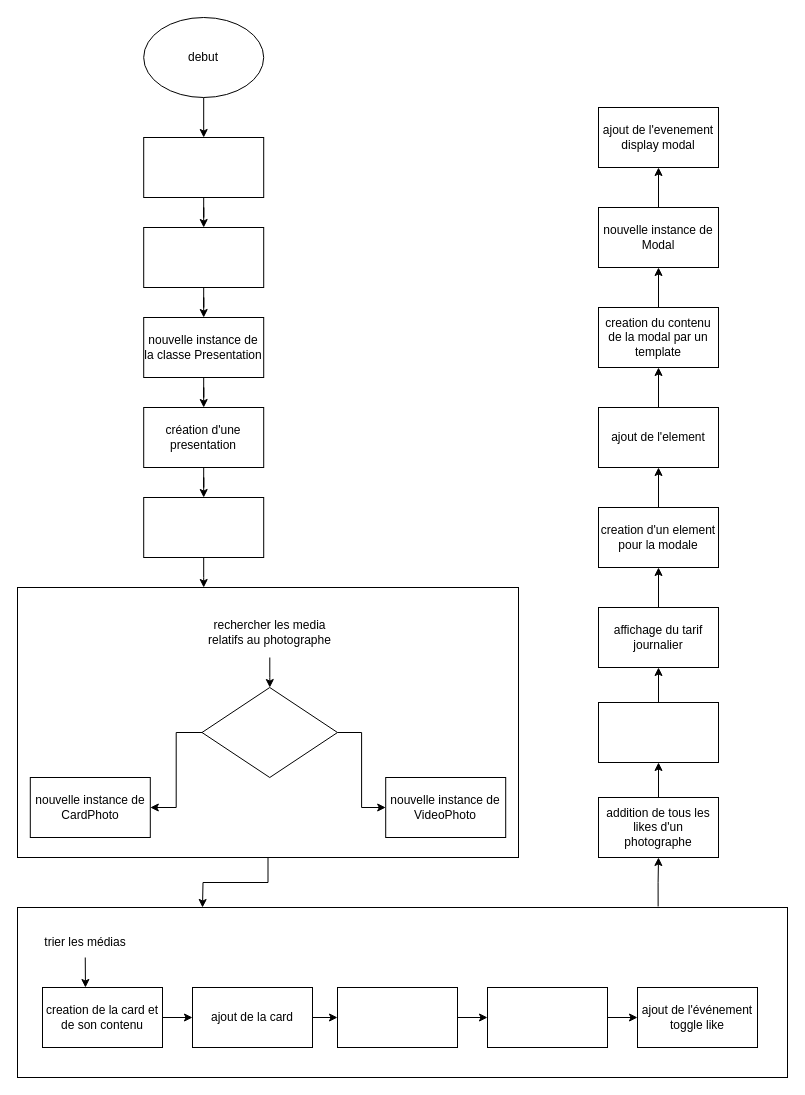
Some shapes in this 805 by 1095 pixel diagram are drawn without their labels. The centre of each missing label's shape, as x and y in pixels:
affichage du total de like: point (658, 732)
ajout de l'évement souris de la light-box: point (397, 1017)
ajout de l'évenemnt clavier de la light-box: point (547, 1017)
ajout de presentation: point (203, 527)
photoFactory: point (269, 732)
rechercher l'Id du photographe dans l'url: point (203, 167)
trouver le photographe grace à l'id dans la base de donnée: point (203, 257)
